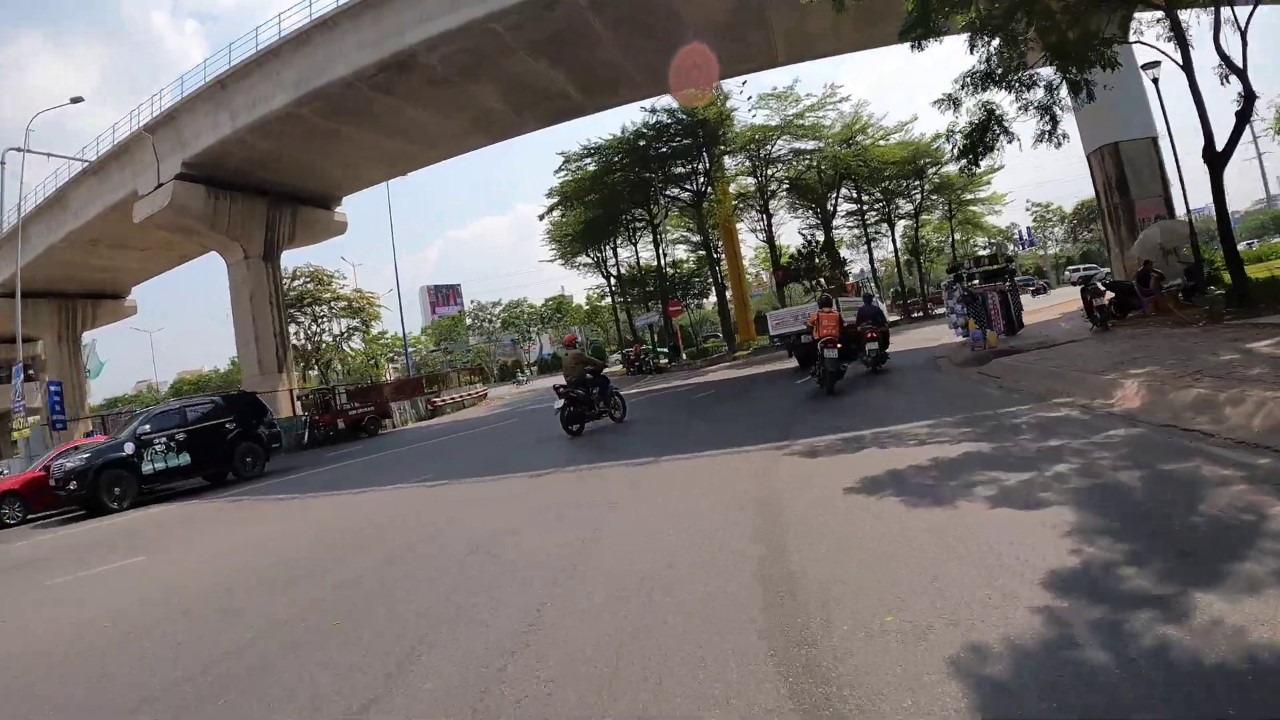cam_nguoc_chieu: (668, 300, 683, 319)
